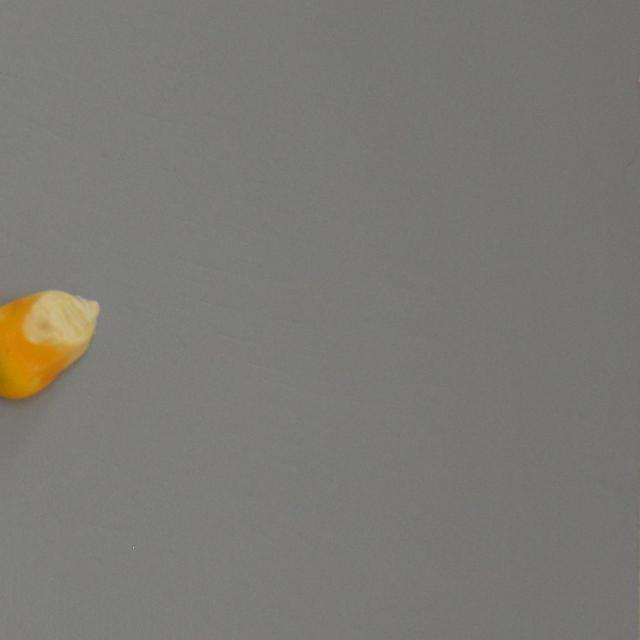entero: (0, 276, 110, 414)
